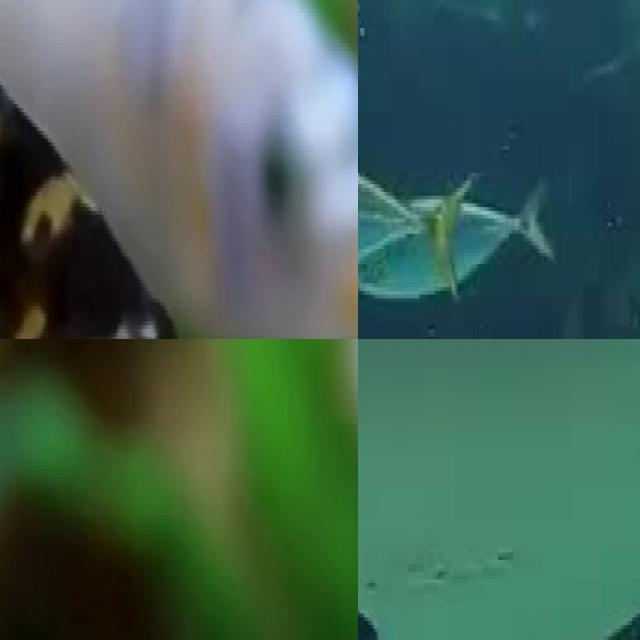fish: (0, 0, 358, 339), (358, 130, 475, 279)
